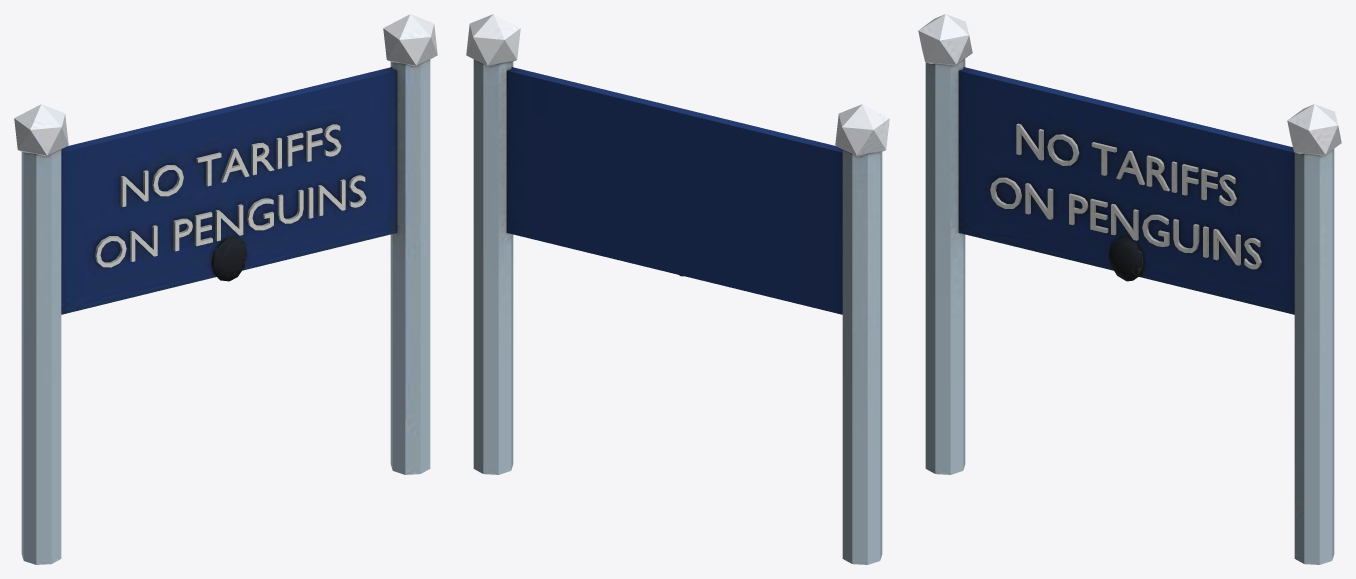
The model's file is cartel_pinguino.glb.
3 renders of one model, left to right at view 1: azimuth 30°, elevation 25°; view 2: azimuth 150°, elevation 25°; view 3: azimuth 330°, elevation 25°, orthographic.
Visible parts, largest first — view 1: cartel_pinguino; view 2: cartel_pinguino; view 3: cartel_pinguino.
Part boxes in pixels (box(x1,y1,x2,y2)): cartel_pinguino: box(14, 14, 437, 564); cartel_pinguino: box(466, 14, 889, 564); cartel_pinguino: box(918, 14, 1341, 564).
Bounding box in the file's own units: 2.82 × 2.93 × 0.3062.
Materials: 1 (1 with a texture image).
